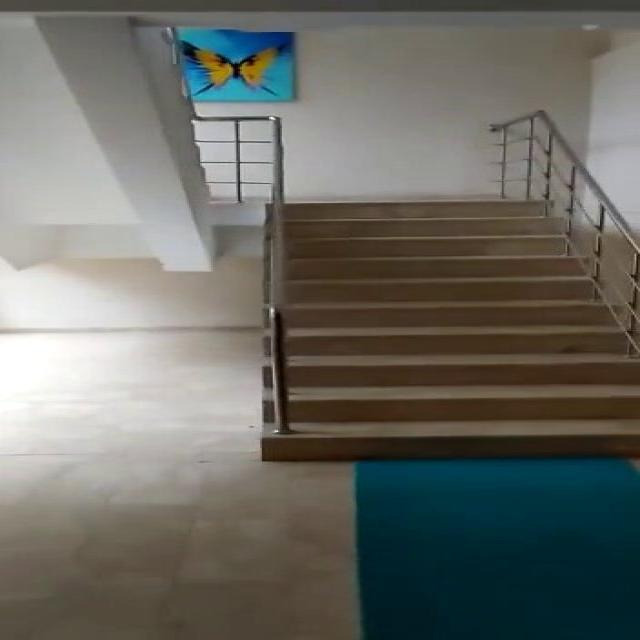stairs: (258, 197, 638, 460)
